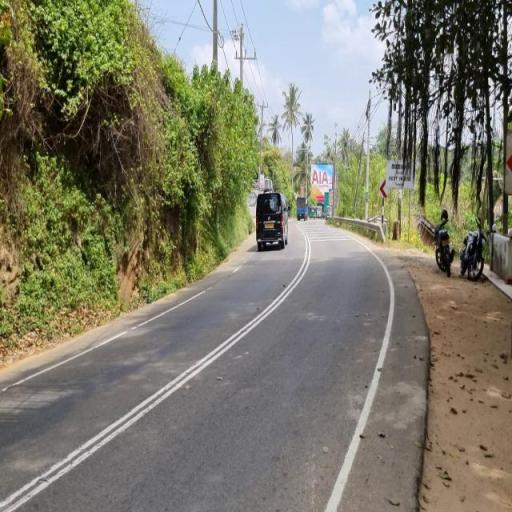double_white_line: (0, 224, 309, 512)
